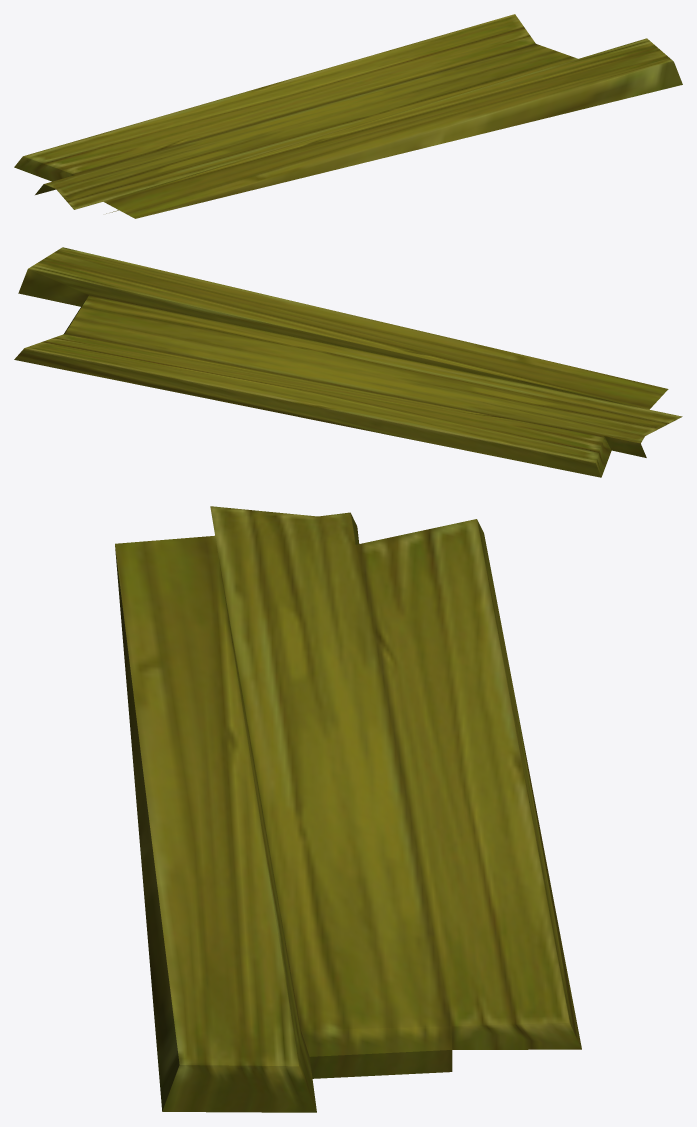
Rendered from mban1.FBX.
The picture shows the model from 3 angles, top to bottom: view 1: azimuth 30°, elevation 25°; view 2: azimuth 150°, elevation 25°; view 3: azimuth 270°, elevation 25°; orthographic projection. The views are drawn at different scales.
Parts seen in each view (by area): view 1: Object003; view 2: Object003; view 3: Object003.
Part boxes in pixels (x1,y1,x2,y2): Object003: (14,14,682,218); Object003: (14,247,682,477); Object003: (115,506,581,1112).
Size of the model in its own units: 194 by 11 by 65.28.
